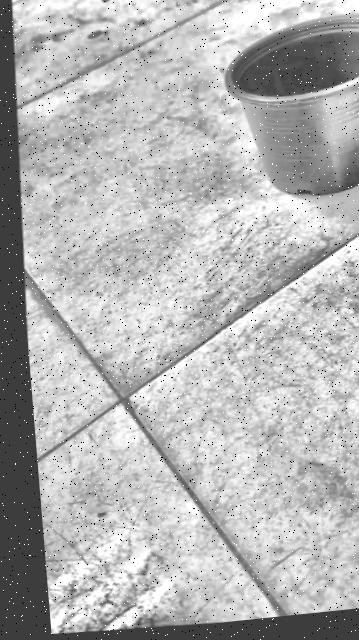pot: (214, 9, 359, 207)
